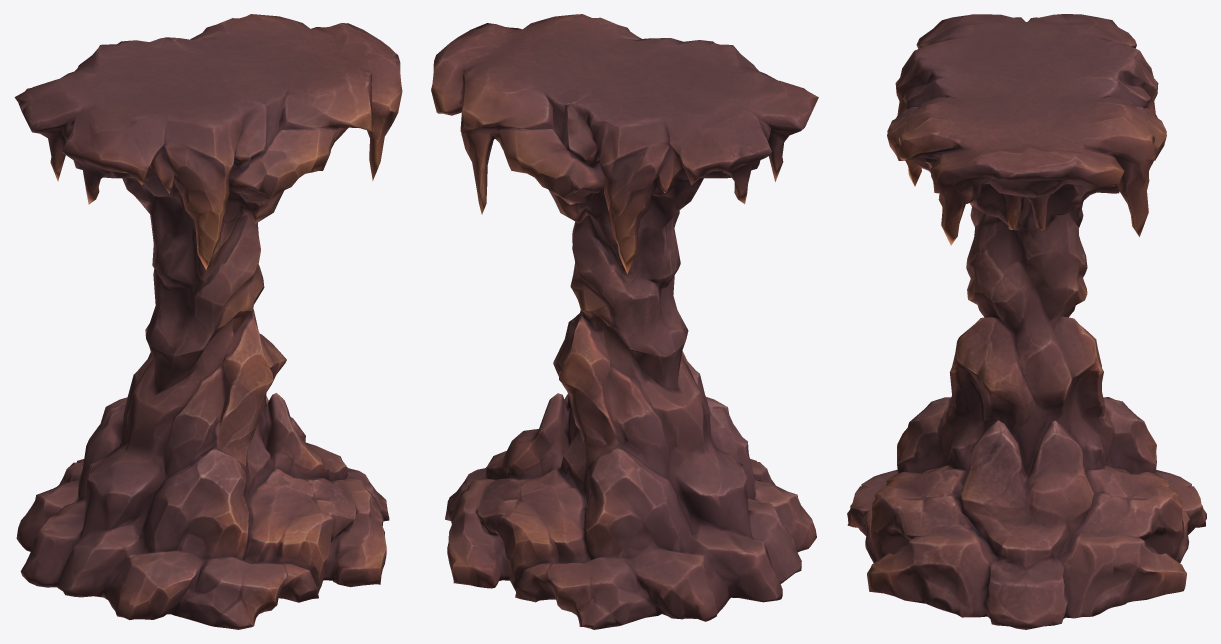
The model's file is rock-pillar-3.glb.
The picture shows the model from 3 angles, left to right: view 1: azimuth 30°, elevation 25°; view 2: azimuth 150°, elevation 25°; view 3: azimuth 270°, elevation 25°; orthographic projection.
Parts seen in each view (by area): view 1: tripo_node_248d3442-0ef0-478d-aae1-fcdfaf993f0b; view 2: tripo_node_248d3442-0ef0-478d-aae1-fcdfaf993f0b; view 3: tripo_node_248d3442-0ef0-478d-aae1-fcdfaf993f0b.
Part boxes in pixels (x1,y1,x2,y2): tripo_node_248d3442-0ef0-478d-aae1-fcdfaf993f0b: (14, 14, 402, 629); tripo_node_248d3442-0ef0-478d-aae1-fcdfaf993f0b: (431, 14, 818, 629); tripo_node_248d3442-0ef0-478d-aae1-fcdfaf993f0b: (847, 14, 1206, 629).
Bounding box in the file's own units: 0.7499 × 1 × 0.6849.
Materials: 1 (1 with a texture image).
